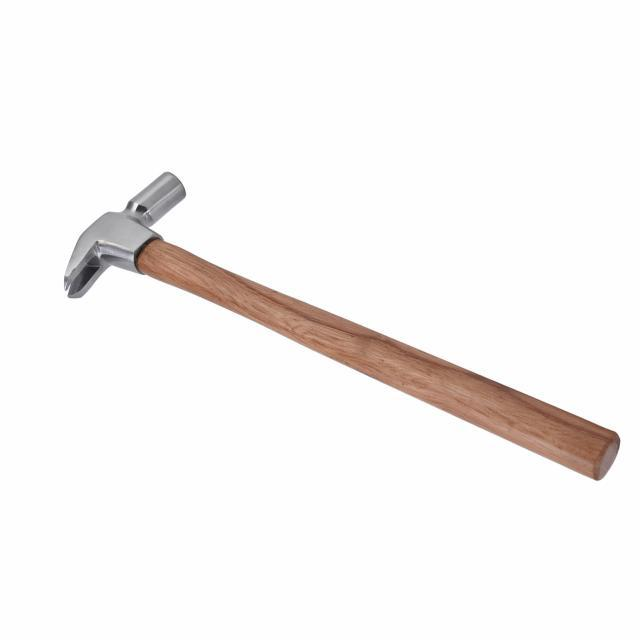hammer: (49, 149, 621, 483)
